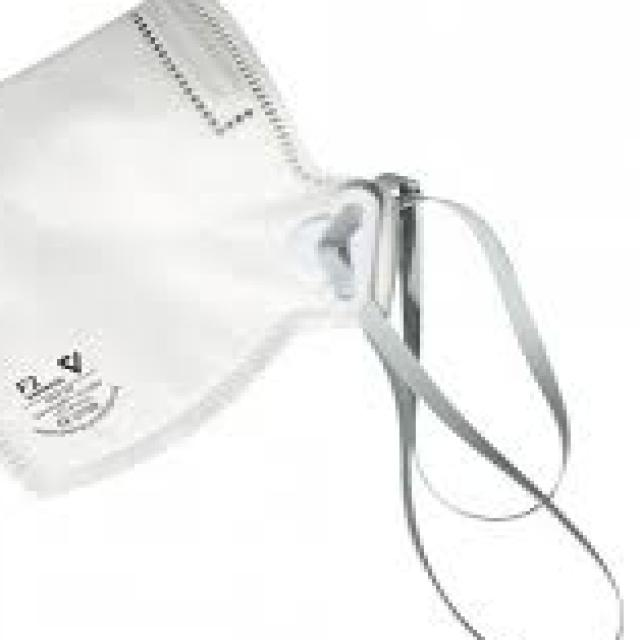organic: (15, 48, 598, 585)
